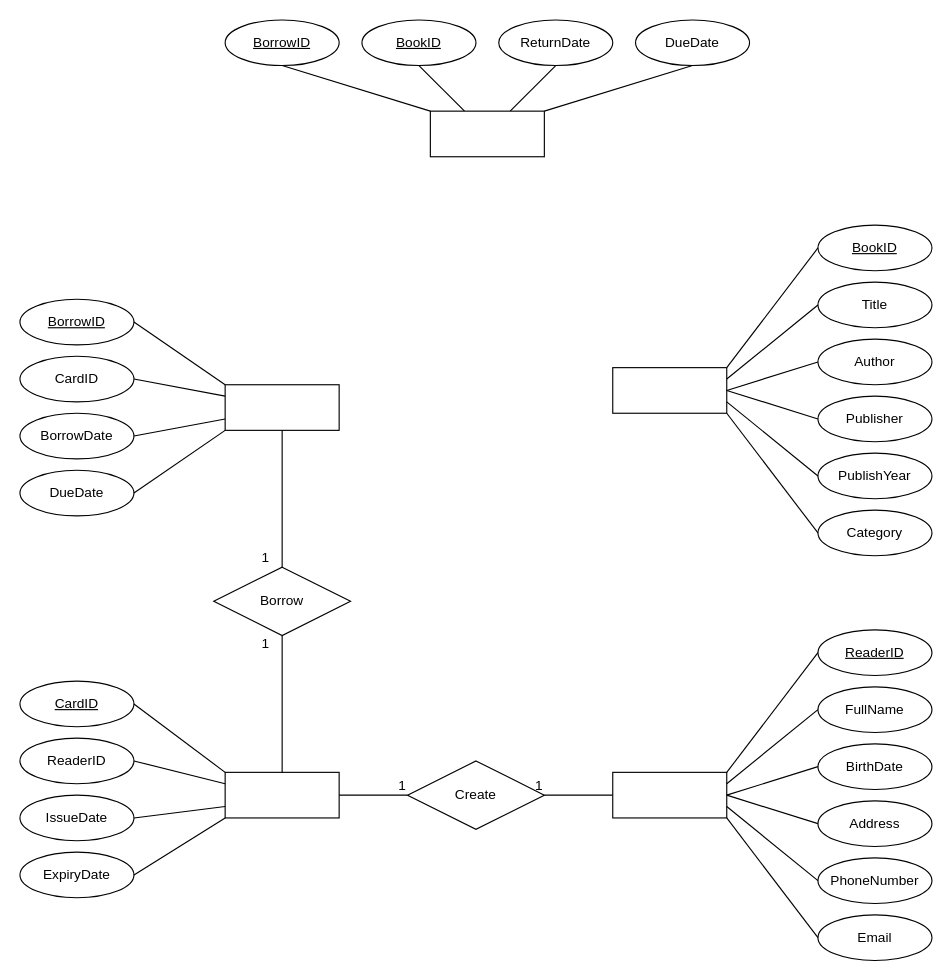
The diagram is 952 pixels wide and 980 high, and some of its shapes have lost their labels. The shapes that lost their labels are listed below. From the top down, each one's centre as x and y in pixels, then its label:
At [486,133]: "BorrowDetails".
At [281,407]: "BorrowSlips".
At [669,390]: "Books".
At [281,794]: "LibraryCards".
At [669,794]: "Readers".
